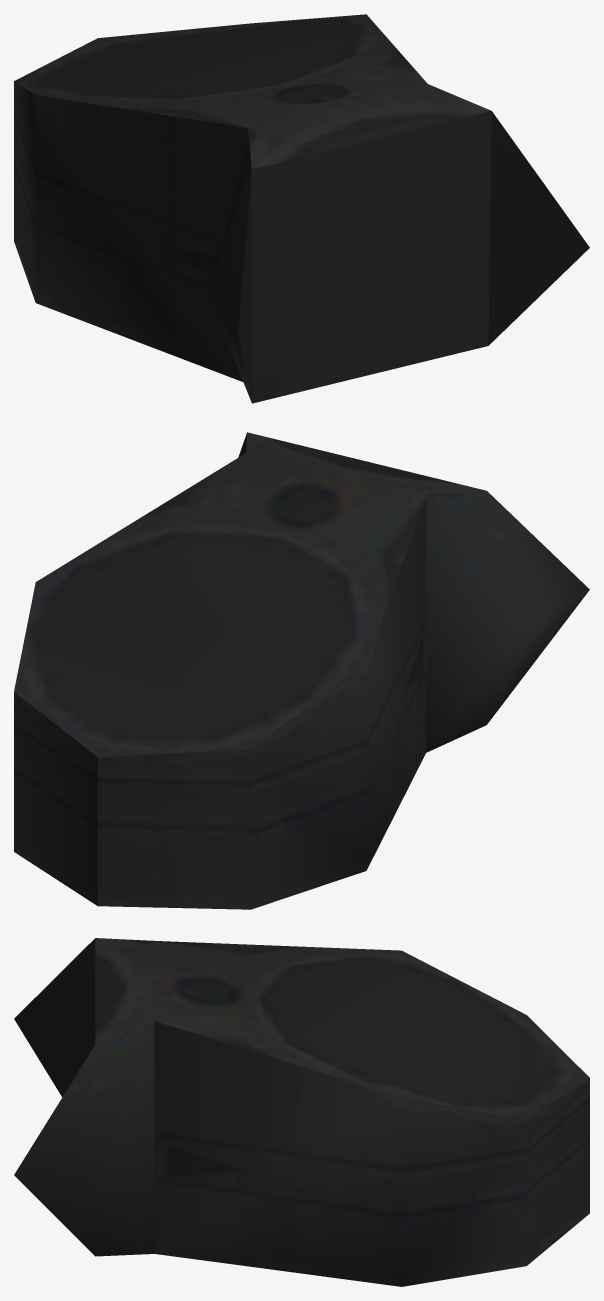
File: Pickup_WeaponZj10.glb
3 views of the same model, one above another, from view 1: azimuth 30°, elevation 25°; view 2: azimuth 150°, elevation 25°; view 3: azimuth 270°, elevation 25° (orthographic). The views are drawn at different scales.
Visible parts, largest first — view 1: pk_weapon_zj10; view 2: pk_weapon_zj10; view 3: pk_weapon_zj10.
Boxes of the visible parts, x1,y1,x2,y2 form: pk_weapon_zj10: (14, 14, 589, 403); pk_weapon_zj10: (14, 432, 589, 909); pk_weapon_zj10: (14, 938, 589, 1286).
Bounding box in the file's own units: 0.1159 × 0.0806 × 0.1806.
1 material, 1 textured.
